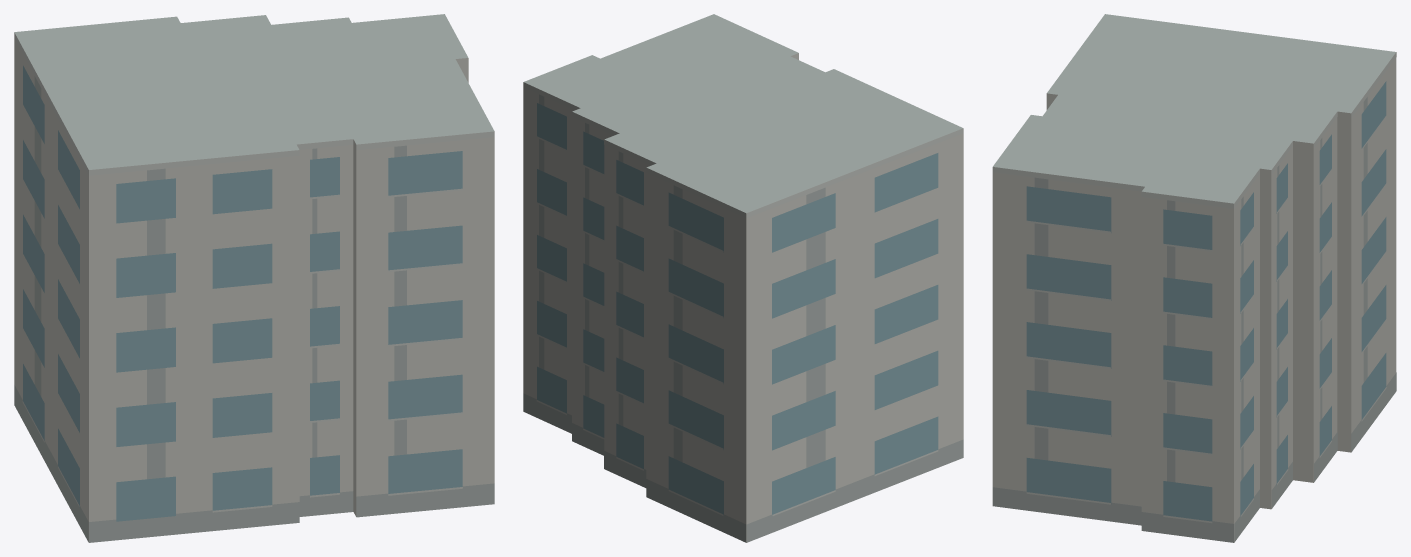
File: survey-upis-32798097.glb
3 views of the same model, side by side, from view 1: azimuth 30°, elevation 25°; view 2: azimuth 150°, elevation 25°; view 3: azimuth 270°, elevation 25° (orthographic). The views are drawn at different scales.
Visible parts, largest first — view 1: survey-upis-32798097.tmp; view 2: survey-upis-32798097.tmp; view 3: survey-upis-32798097.tmp.
Part boxes in pixels (<box>): survey-upis-32798097.tmp: <box>14,14,494,542</box>; survey-upis-32798097.tmp: <box>523,14,963,542</box>; survey-upis-32798097.tmp: <box>992,14,1396,542</box>.
Size of the model in its own units: 18.6 by 15.51 by 16.74.
